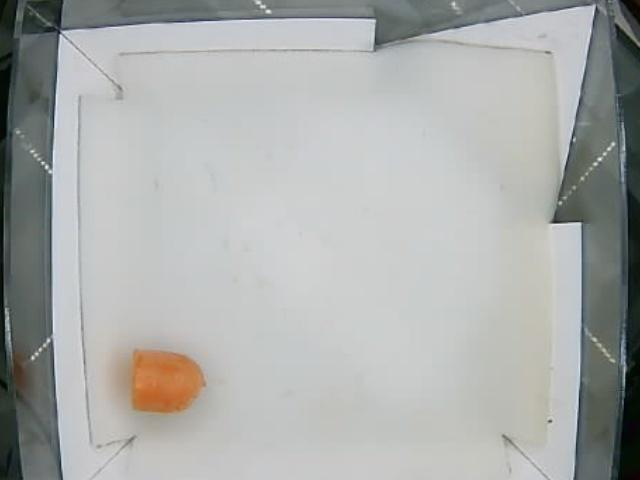Carrot: (128, 350, 204, 413)
